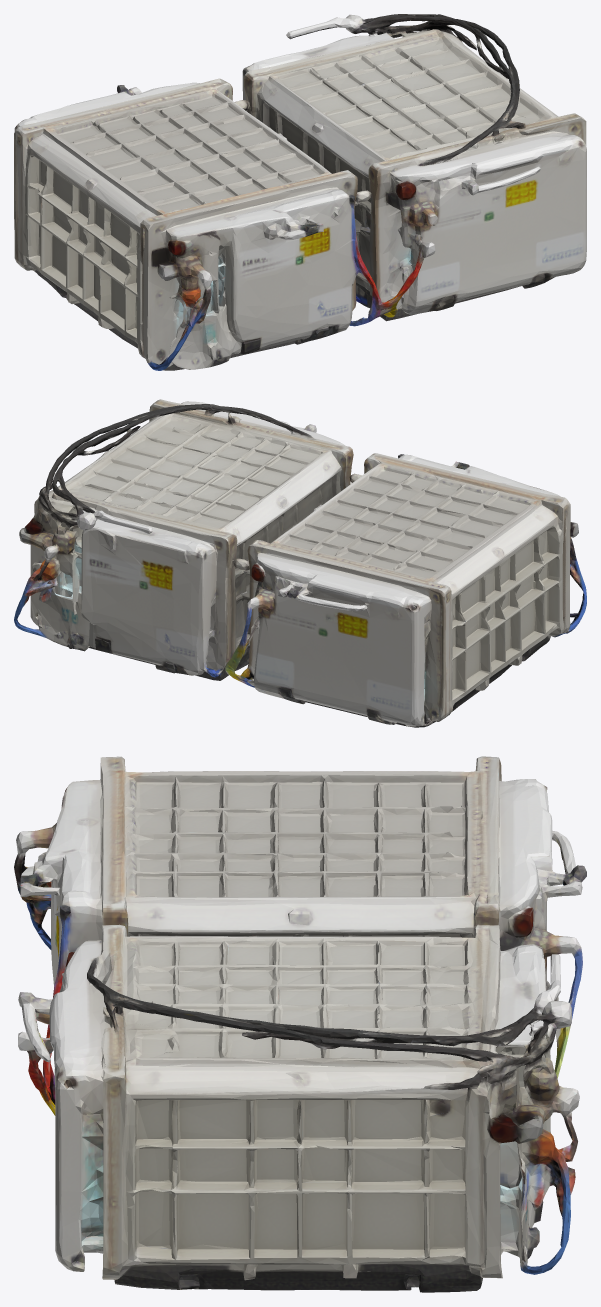
File: Fridge.glb
3 views of the same model, one above another, from view 1: azimuth 30°, elevation 25°; view 2: azimuth 150°, elevation 25°; view 3: azimuth 270°, elevation 25° (orthographic). The views are drawn at different scales.
Parts seen in each view (by area): view 1: world; view 2: world; view 3: world.
Boxes of the visible parts, box(x1,y1,x2,y2) form: world: box(14, 14, 586, 370); world: box(14, 399, 586, 727); world: box(14, 756, 586, 1292).
Bounding box in the file's own units: 0.9999 × 0.4075 × 0.7547.
1 material, 1 textured.
